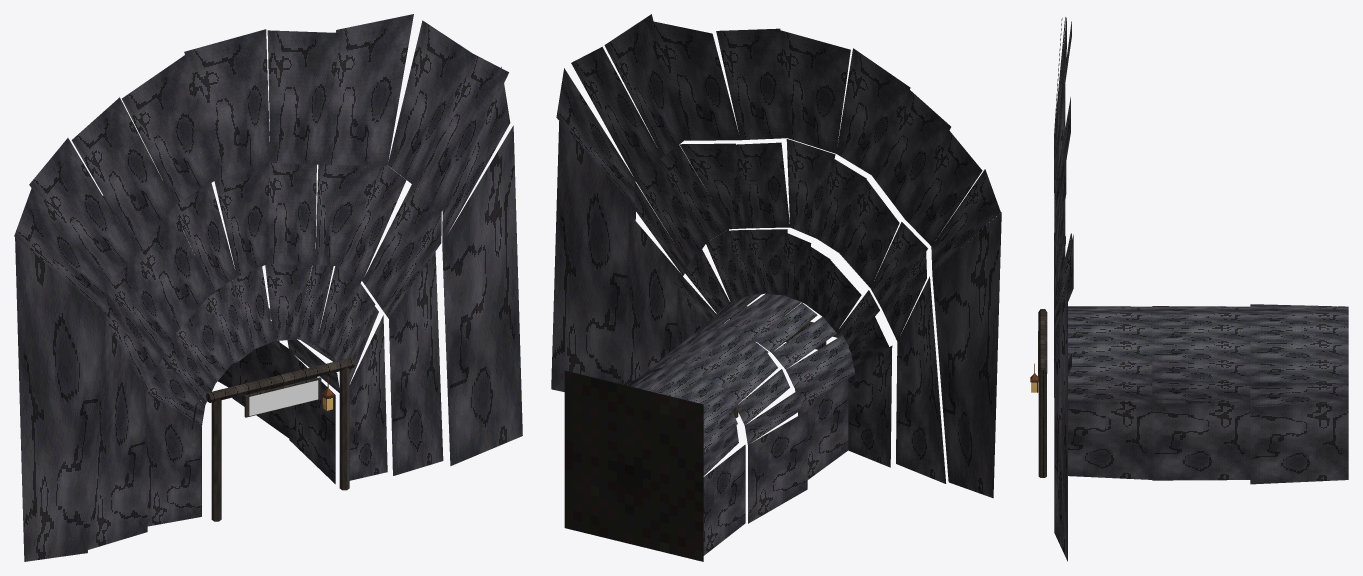
The model's file is cueva_varadero.obj.
The picture shows the model from 3 angles, left to right: view 1: azimuth 30°, elevation 25°; view 2: azimuth 150°, elevation 25°; view 3: azimuth 270°, elevation 25°; orthographic projection. The views are drawn at different scales.
Parts seen in each view (by area): view 1: cueva_varadero; view 2: cueva_varadero; view 3: cueva_varadero.
Boxes of the visible parts, left/top/right/bottom form: cueva_varadero: left=14, top=14, right=522, bottom=561; cueva_varadero: left=551, top=14, right=1001, bottom=561; cueva_varadero: left=1030, top=17, right=1348, bottom=561.
Bounding box in the file's own units: 15.51 × 13.82 × 9.73.
6 materials, 5 textured.
